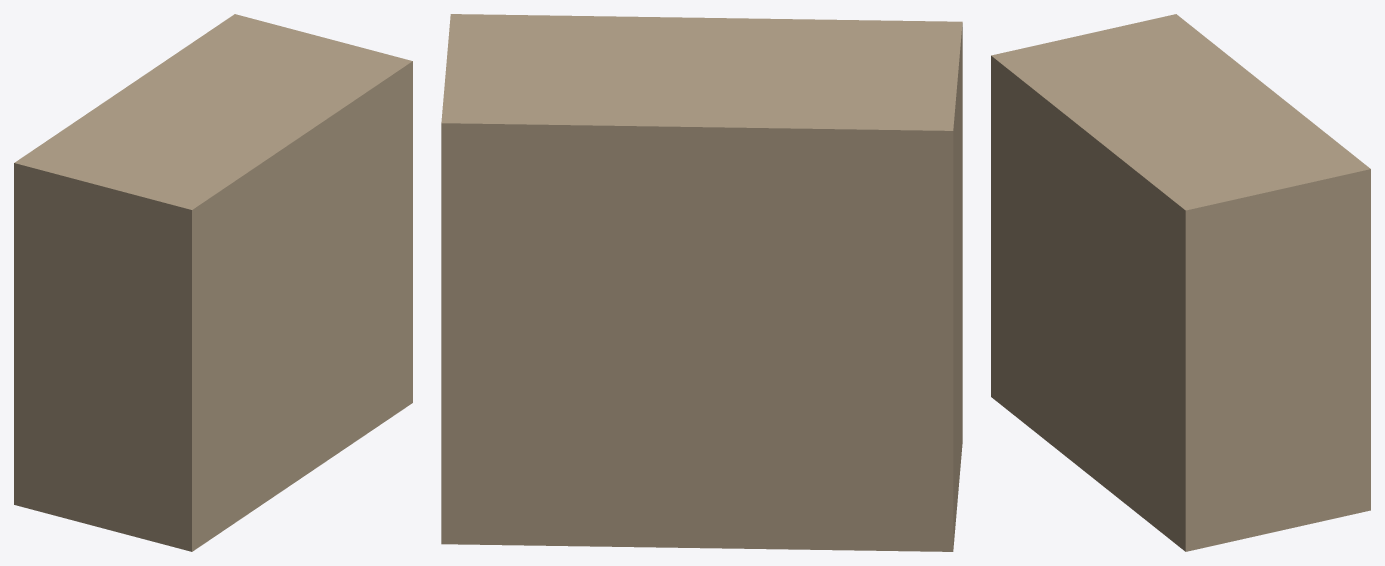
The model's file is bld_106415234.dae.
The picture shows the model from 3 angles, left to right: view 1: azimuth 30°, elevation 25°; view 2: azimuth 150°, elevation 25°; view 3: azimuth 270°, elevation 25°; orthographic projection. The views are drawn at different scales.
Parts seen in each view (by area): view 1: bld_106415234; view 2: bld_106415234; view 3: bld_106415234.
Boxes of the visible parts, left/top/right/bottom form: bld_106415234: left=14, top=14, right=412, bottom=551; bld_106415234: left=441, top=14, right=962, bottom=551; bld_106415234: left=991, top=14, right=1370, bottom=551.
Size of the model in its own units: 9.88 by 8.07 by 8.
